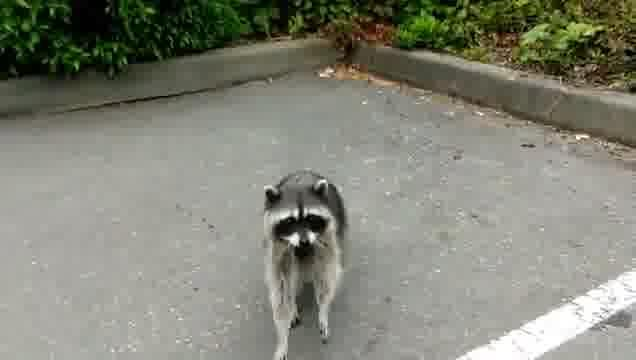raccoon: (260, 170, 351, 360)
